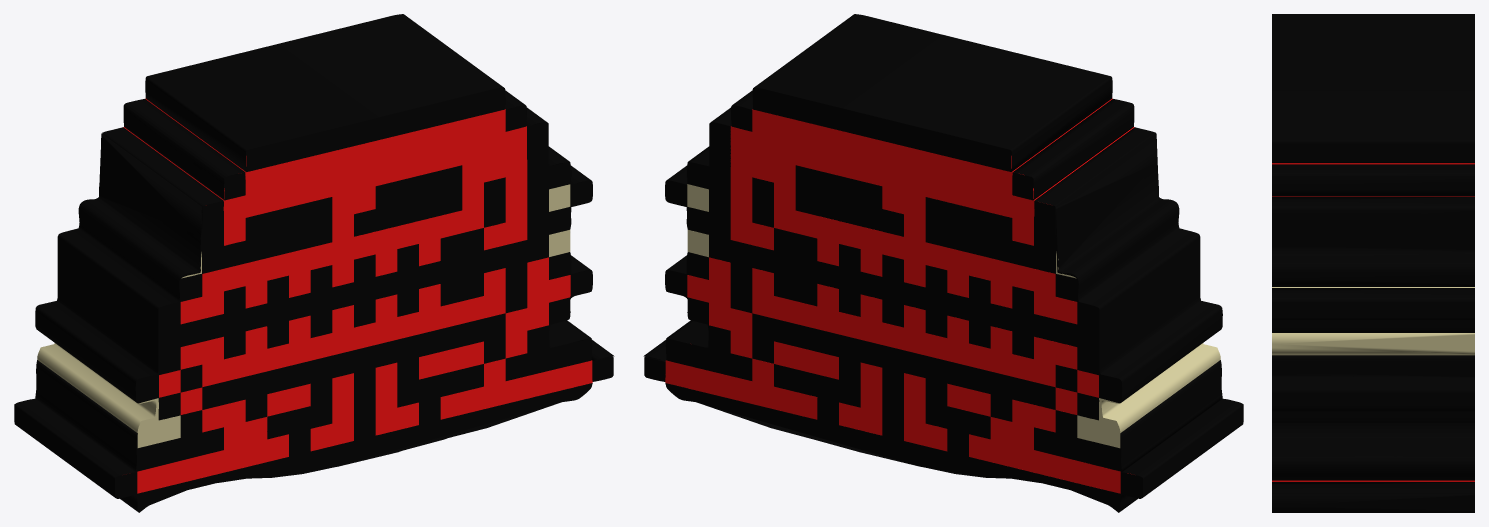
The model's file is Toadz_4559.glb.
3 views of the same model, side by side, from view 1: azimuth 30°, elevation 25°; view 2: azimuth 150°, elevation 25°; view 3: azimuth 270°, elevation 25° (orthographic).
Parts seen in each view (by area): view 1: Curve; view 2: Curve; view 3: Curve.
Boxes of the visible parts, left/top/right/bottom form: Curve: left=14, top=14, right=614, bottom=512; Curve: left=643, top=14, right=1243, bottom=512; Curve: left=1272, top=14, right=1474, bottom=512.
Size of the model in its own units: 2.87 by 1.87 by 1.
